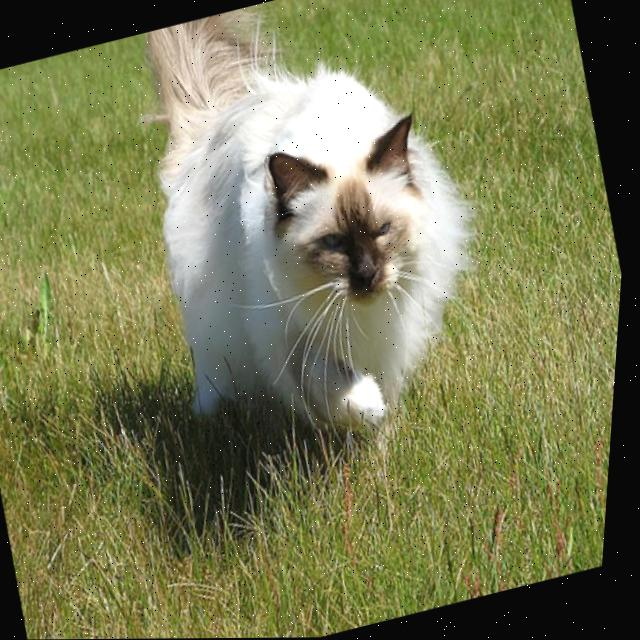Birman: (96, 0, 537, 489)
